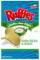grozi_117: (0, 0, 40, 60)
